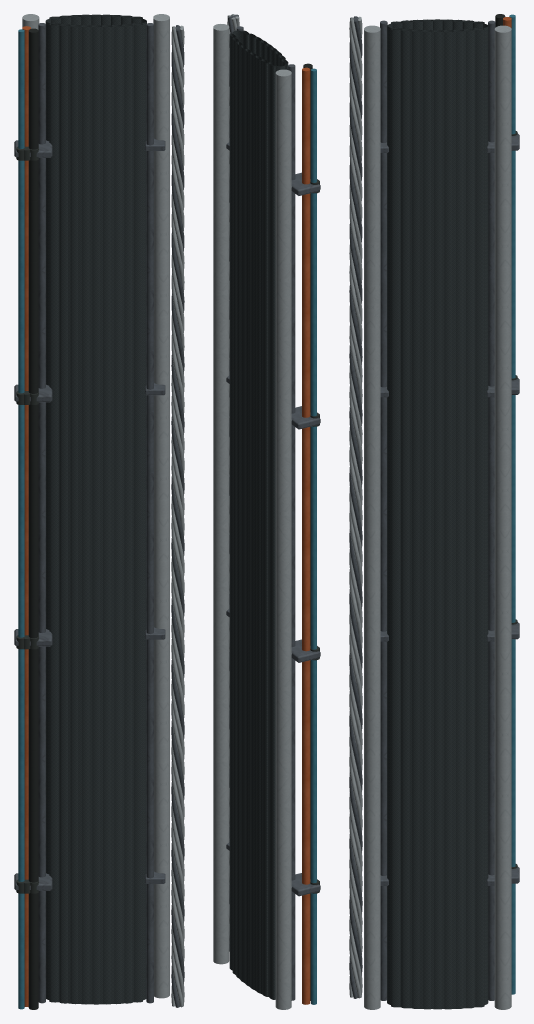
Rendered from load_span.fbx.
The picture shows the model from 3 angles, left to right: view 1: azimuth 90°, elevation 25°; view 2: azimuth 210°, elevation 25°; view 3: azimuth 270°, elevation 25°; orthographic projection. The views are drawn at different scales.
Visible parts, largest first — view 1: SM_load_span; view 2: SM_load_span; view 3: SM_load_span.
Part boxes in pixels (x1,y1,x2,y2): SM_load_span: (14,14,184,1009); SM_load_span: (213,14,320,1009); SM_load_span: (349,14,519,1009).
Size of the model in its own units: 0.3406 by 8.01 by 1.26.
Materials: 8 (8 with a texture image).
